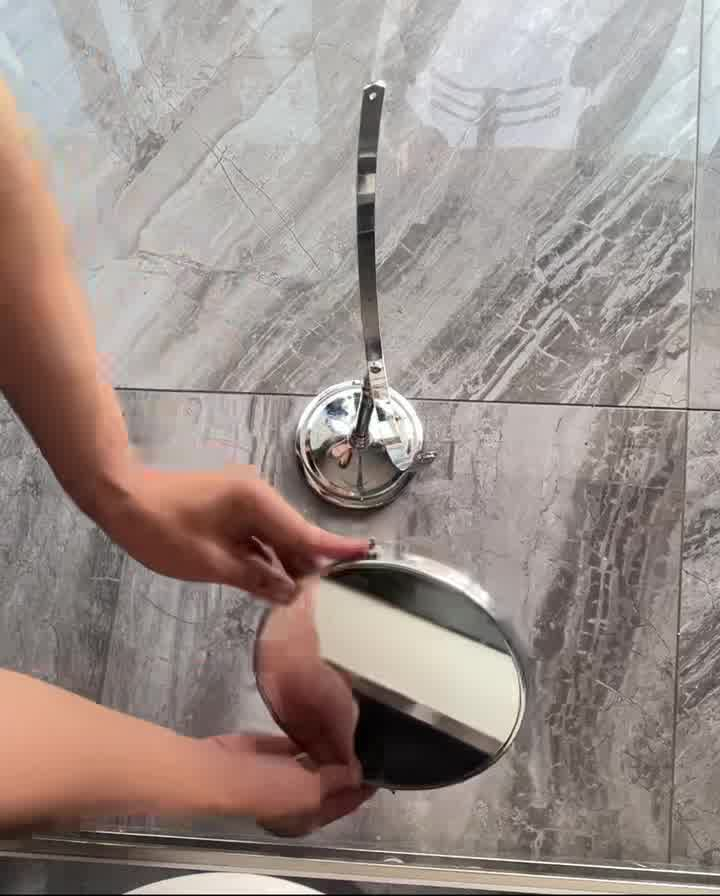base: (296, 382, 435, 513)
frame: (332, 79, 457, 474)
mirror: (240, 531, 550, 822)
